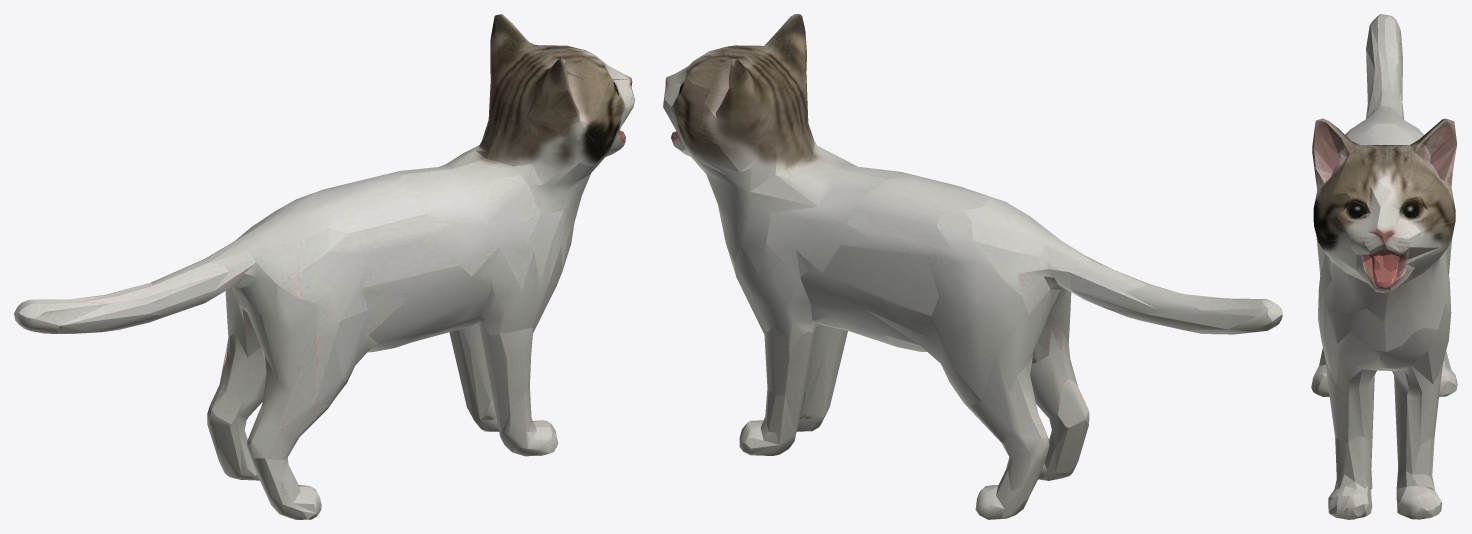
Rendered from popcat-lo.glb.
3 views of the same model, side by side, from view 1: azimuth 30°, elevation 25°; view 2: azimuth 150°, elevation 25°; view 3: azimuth 270°, elevation 25° (orthographic).
Visible parts, largest first — view 1: output_unwrapped; view 2: output_unwrapped; view 3: output_unwrapped.
Boxes of the visible parts, box(x1,y1,x2,y2) form: output_unwrapped: box(14, 14, 634, 519); output_unwrapped: box(663, 14, 1282, 519); output_unwrapped: box(1311, 14, 1457, 519).
Size of the model in its own units: 1.62 by 1 by 0.3307.
Materials: 1 (1 with a texture image).
